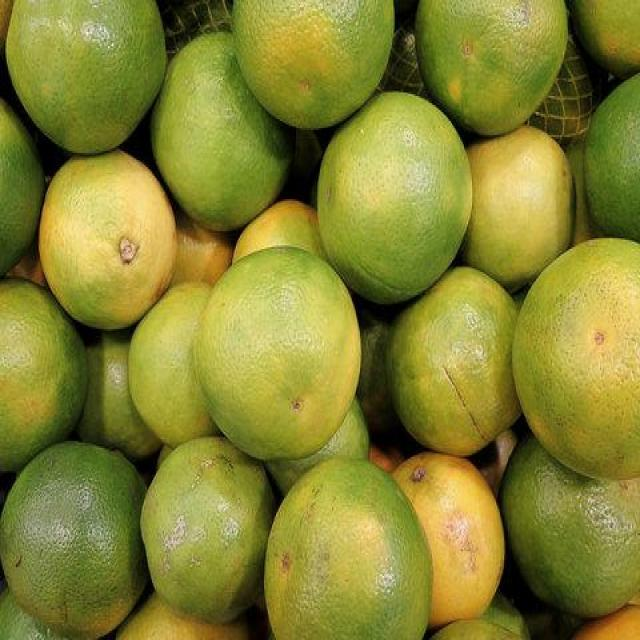Jeruk Belum Matang: (196, 246, 359, 458), (318, 89, 474, 306), (513, 238, 640, 484), (266, 458, 433, 640), (152, 30, 300, 231), (0, 442, 152, 636), (385, 268, 527, 454), (502, 439, 640, 624), (5, 0, 167, 156), (37, 147, 175, 330), (142, 438, 278, 620), (229, 0, 396, 132), (416, 0, 571, 139), (386, 455, 502, 629), (466, 122, 578, 288), (0, 283, 91, 477), (129, 281, 220, 448), (78, 334, 166, 454), (582, 71, 640, 241), (0, 94, 44, 279), (234, 201, 330, 261), (573, 0, 640, 71), (168, 224, 232, 286)
